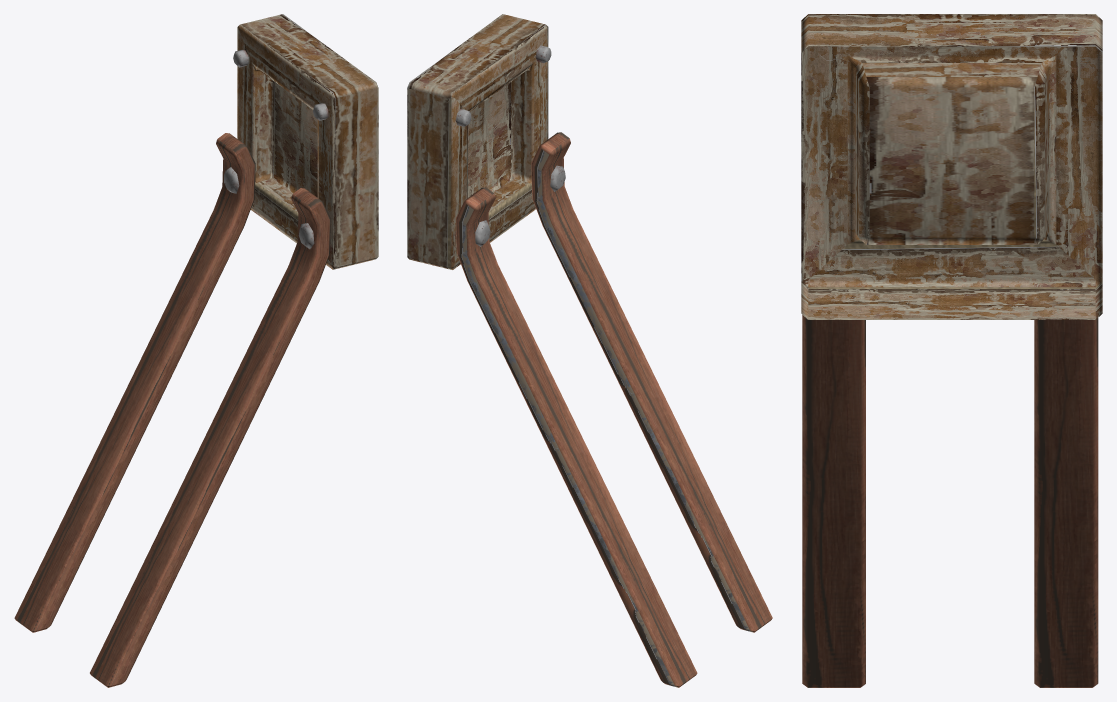
File: guage.fbx
The picture shows the model from 3 angles, left to right: view 1: azimuth 30°, elevation 25°; view 2: azimuth 150°, elevation 25°; view 3: azimuth 270°, elevation 25°; orthographic projection. The views are drawn at different scales.
Parts seen in each view (by area): view 1: Box004; view 2: Box004; view 3: Box004.
Part boxes in pixels (box(x1,y1,x2,y2)): Box004: box(14, 14, 378, 687); Box004: box(407, 14, 772, 687); Box004: box(801, 14, 1102, 687).
Bounding box in the file's own units: 1149 × 2199 × 721.
